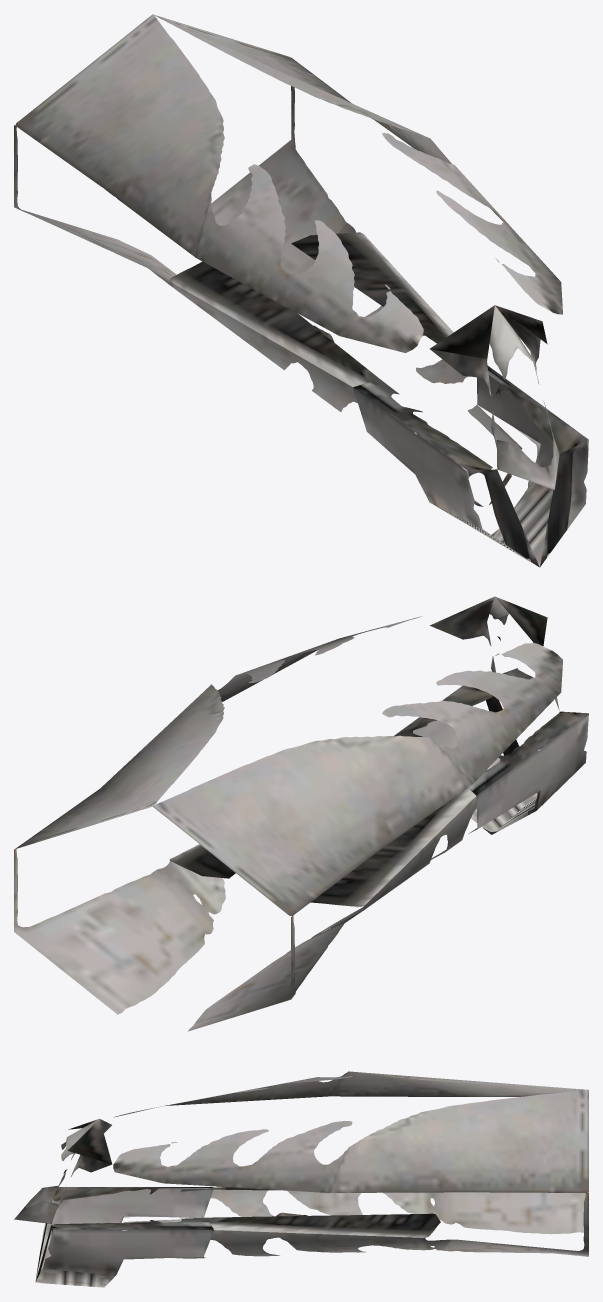
Rendered from hutt_fighter_heavy_body_s01_l3.fbx.
The picture shows the model from 3 angles, top to bottom: view 1: azimuth 30°, elevation 25°; view 2: azimuth 150°, elevation 25°; view 3: azimuth 270°, elevation 25°; orthographic projection. The views are drawn at different scales.
Parts seen in each view (by area): view 1: mesh_node; view 2: mesh_node; view 3: mesh_node.
Boxes of the visible parts, left/top/right/bottom form: mesh_node: left=14, top=14, right=588, bottom=567; mesh_node: left=14, top=596, right=588, bottom=1031; mesh_node: left=14, top=1071, right=588, bottom=1287.
Bounding box in the file's own units: 7.65 × 7.56 × 19.23.
Materials: 1 (1 with a texture image).
